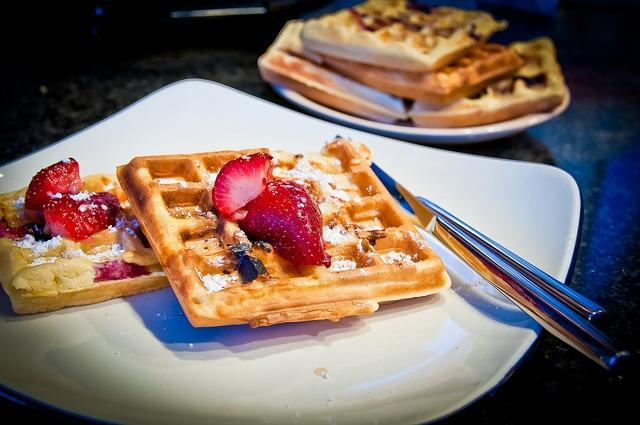strawberry: (238, 180, 332, 268), (212, 152, 274, 222), (43, 190, 121, 241), (25, 157, 84, 208)
